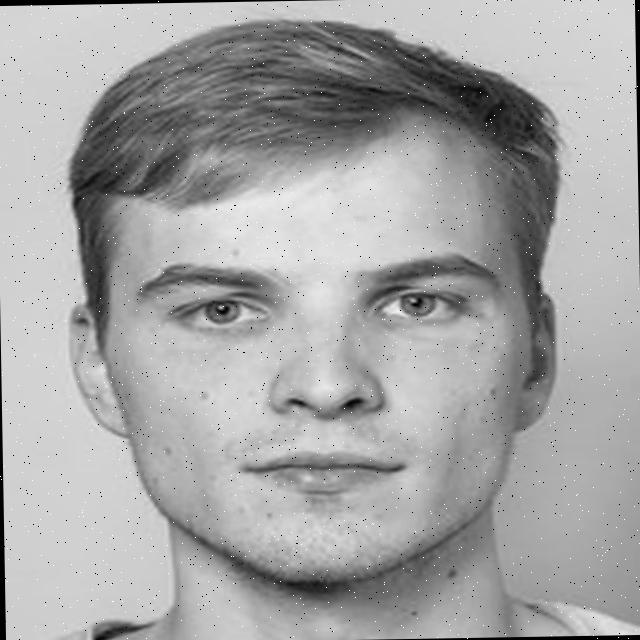Neutral: (108, 126, 538, 584)
